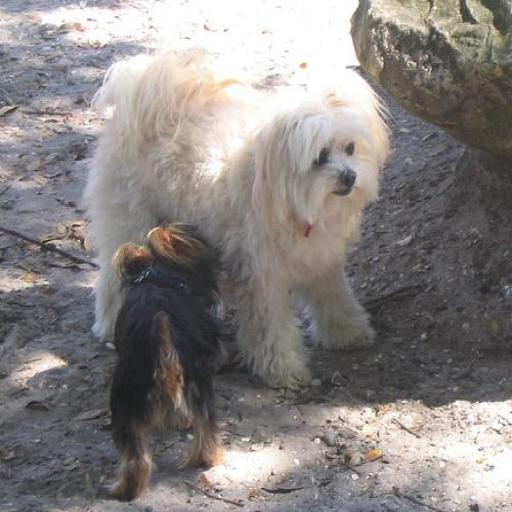dog_face: (269, 79, 368, 207)
